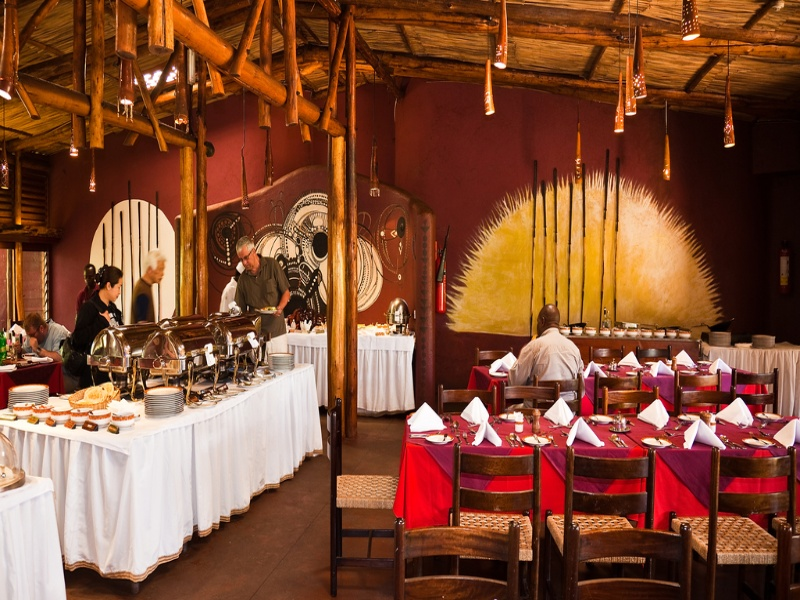dining table: (384, 392, 795, 560)
